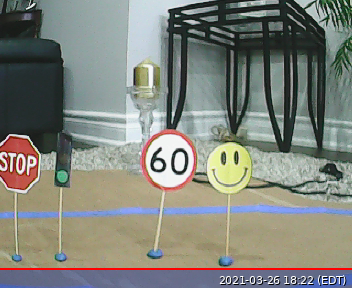Green Traffic Light: (52, 128, 73, 189)
Person: (205, 141, 252, 194)
Speed Limit 60: (140, 128, 197, 192)
